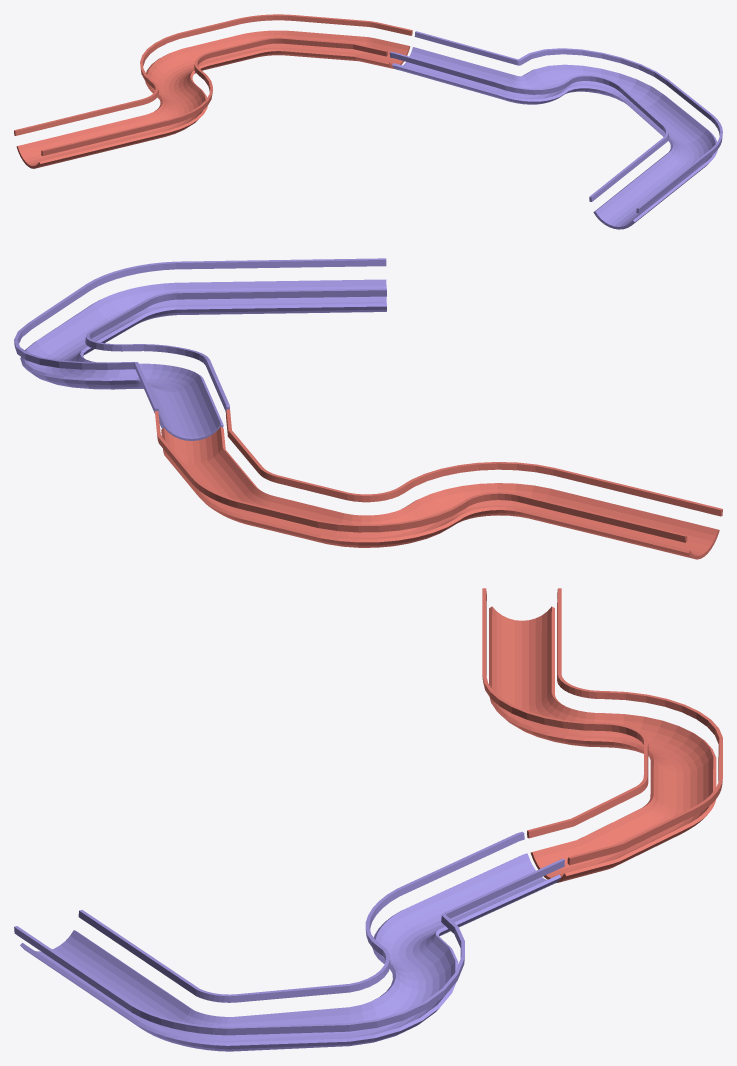
The model's file is scen_III_spir_lacznik-a.fbx.
3 renders of one model, top to bottom at view 1: azimuth 30°, elevation 25°; view 2: azimuth 150°, elevation 25°; view 3: azimuth 270°, elevation 25°, orthographic. The views are drawn at different scales.
Parts seen in each view (by area): view 1: łącznik górny; view 2: łącznik górny; view 3: łącznik górny.
Part boxes in pixels (left/top/right/bottom): łącznik górny: left=14, top=14, right=722, bottom=229; łącznik górny: left=14, top=258, right=722, bottom=559; łącznik górny: left=14, top=588, right=722, bottom=1051.
Bounding box in the file's own units: 1858 × 194 × 1430.
